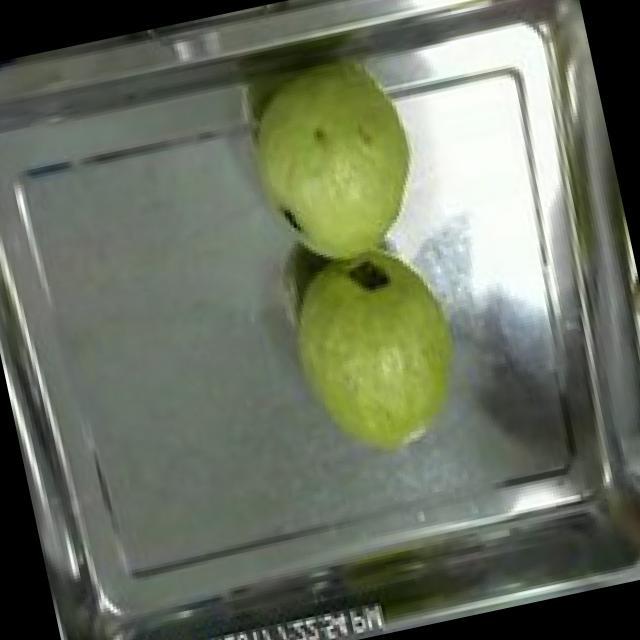Fruit: (264, 229, 486, 480), (218, 47, 446, 290)
